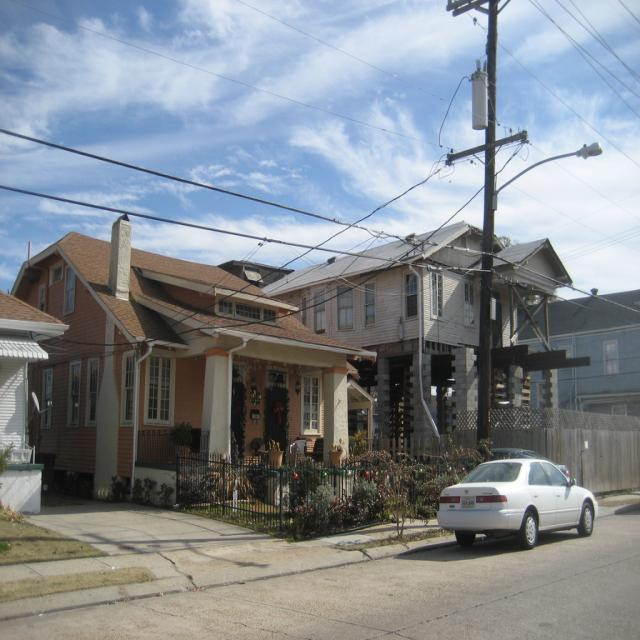car: (434, 458, 604, 549)
